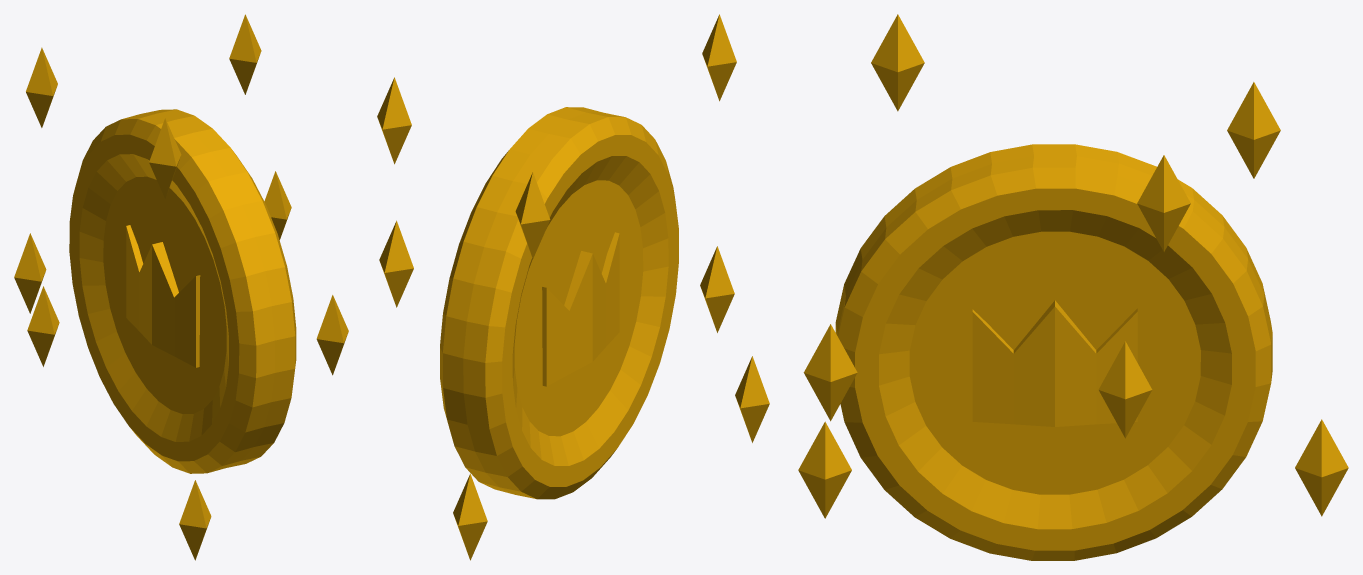
File: NewCoin.fbx
3 views of the same model, side by side, from view 1: azimuth 30°, elevation 25°; view 2: azimuth 150°, elevation 25°; view 3: azimuth 270°, elevation 25° (orthographic). The views are drawn at different scales.
Parts seen in each view (by area): view 1: Cylinder, Plane.001, 円錐.003, 円錐.005, 円錐.006, 円錐.002, 円錐.001, 円錐.004, 円錐, 円錐.007; view 2: Cylinder, Plane.001, 円錐.002, 円錐.001, 円錐, 円錐.004, 円錐.007, 円錐.005, 円錐.006; view 3: Cylinder, Plane, 円錐.003, 円錐, 円錐.005, 円錐.001, 円錐.002, 円錐.006, 円錐.007.
Part boxes in pixels (x1,y1,x2,y2): Cylinder: [69, 109, 296, 473]; Plane.001: [126, 225, 200, 367]; 円錐.003: [316, 295, 348, 375]; 円錐.005: [179, 480, 211, 560]; 円錐.006: [27, 286, 59, 366]; 円錐.002: [149, 118, 181, 198]; 円錐.001: [229, 14, 261, 94]; 円錐.004: [14, 233, 46, 313]; 円錐: [26, 47, 57, 127]; 円錐.007: [264, 171, 291, 239]; Cylinder: [440, 107, 678, 499]; Plane.001: [542, 232, 619, 386]; 円錐.002: [702, 14, 736, 101]; 円錐.001: [377, 77, 411, 164]; 円錐: [515, 172, 550, 258]; 円錐.004: [700, 246, 734, 332]; 円錐.007: [379, 220, 413, 307]; 円錐.005: [735, 356, 769, 442]; 円錐.006: [453, 473, 487, 560]; Cylinder: [835, 144, 1272, 560]; Plane: [972, 300, 1137, 426]; 円錐.003: [803, 324, 857, 421]; 円錐: [1227, 82, 1280, 178]; 円錐.005: [798, 421, 851, 518]; 円錐.001: [1137, 155, 1190, 251]; 円錐.002: [871, 14, 924, 111]; 円錐.006: [1295, 419, 1348, 516]; 円錐.007: [1098, 341, 1152, 438].
Size of the model in its own units: 317 by 419 by 414.
